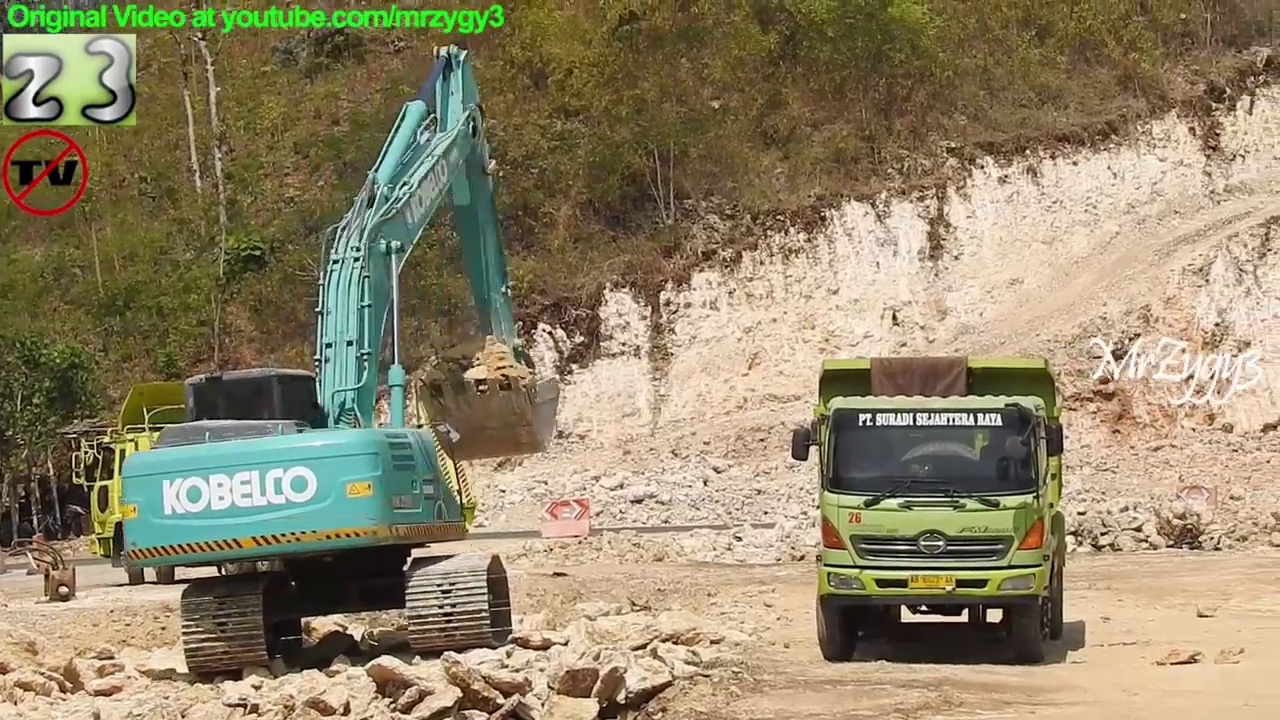excavator: (115, 36, 569, 681)
truck: (788, 350, 1071, 668), (62, 378, 484, 589)
